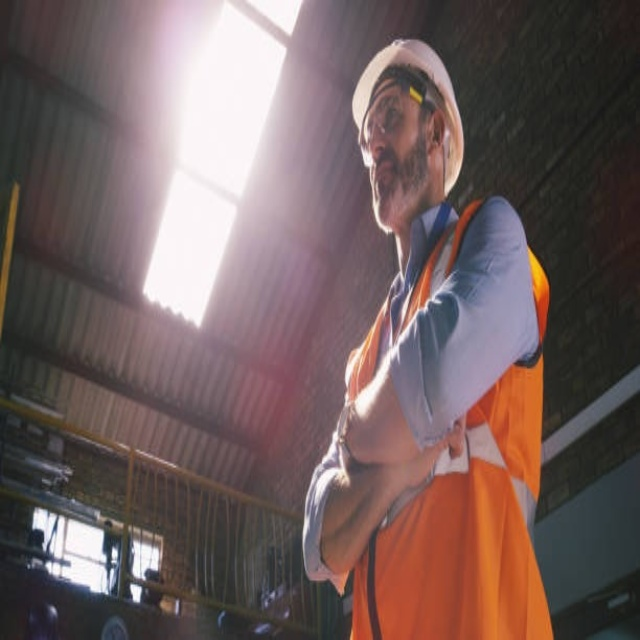Gafas: (359, 87, 436, 166)
Sin_mascara: (370, 147, 404, 208)
